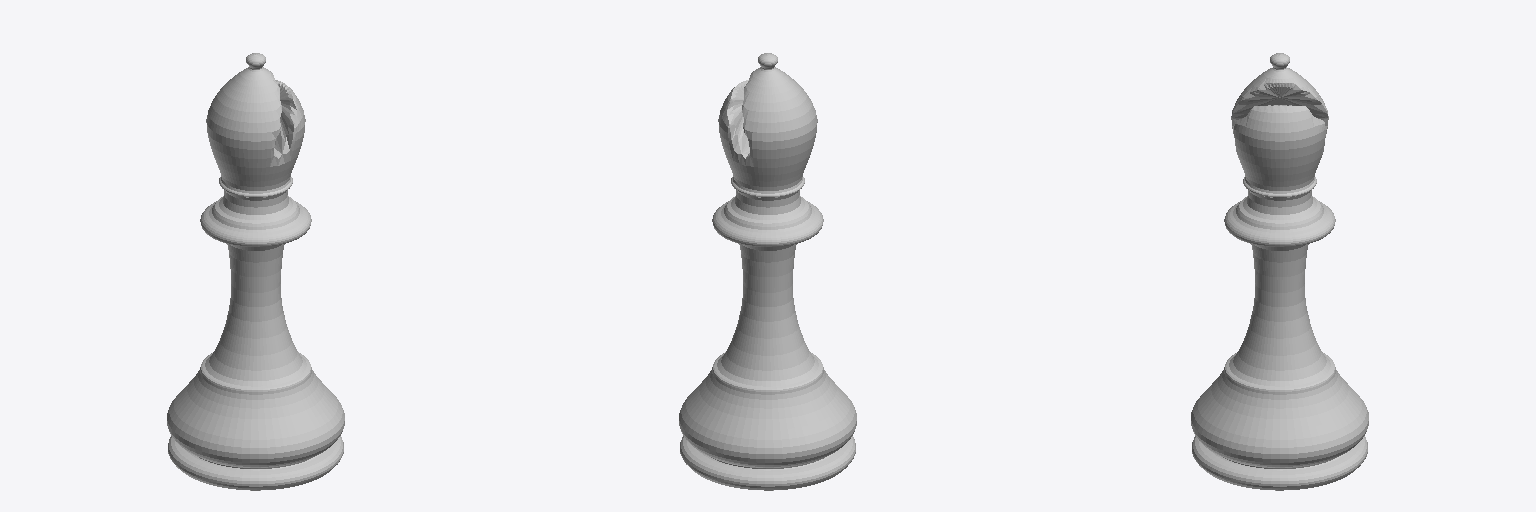
Rendered from bishop.obj.
The picture shows the model from 3 angles: view 1: azimuth 30°, elevation 25°; view 2: azimuth 150°, elevation 25°; view 3: azimuth 270°, elevation 25°; orthographic projection.
Parts seen in each view (by area): view 1: bishop_black_2_Cylinder.018; view 2: bishop_black_2_Cylinder.018; view 3: bishop_black_2_Cylinder.018.
Boxes of the visible parts, x1=… form: bishop_black_2_Cylinder.018: x1=167, y1=53, x2=344, y2=490; bishop_black_2_Cylinder.018: x1=679, y1=53, x2=856, y2=490; bishop_black_2_Cylinder.018: x1=1191, y1=53, x2=1368, y2=490.
Bounding box in the file's own units: 1.17 × 2.93 × 1.17.